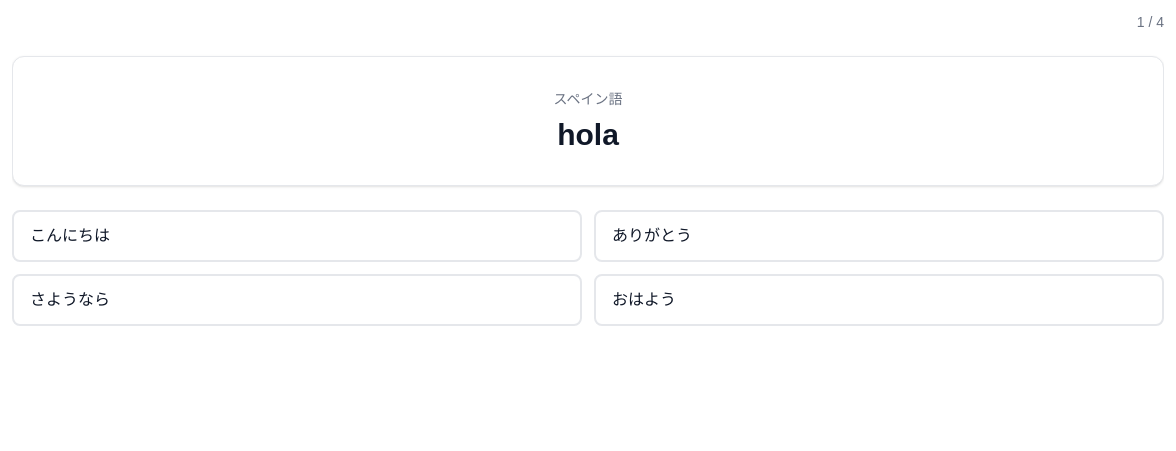
Test: QuizCard › 不正解選択で赤のフィードバックが表示されること
Note: 不正解は「ありがとう」
Click the button "ありがとう". click: (652,236)
box: [594, 210, 1164, 262]
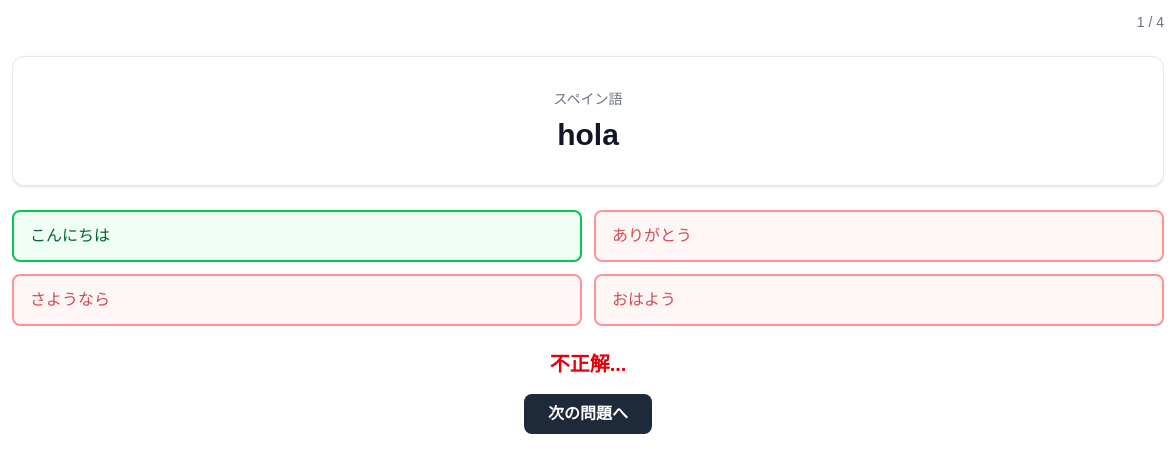
Expected: the text with test id "feedback" shows "不正解", [550, 353, 626, 375]
